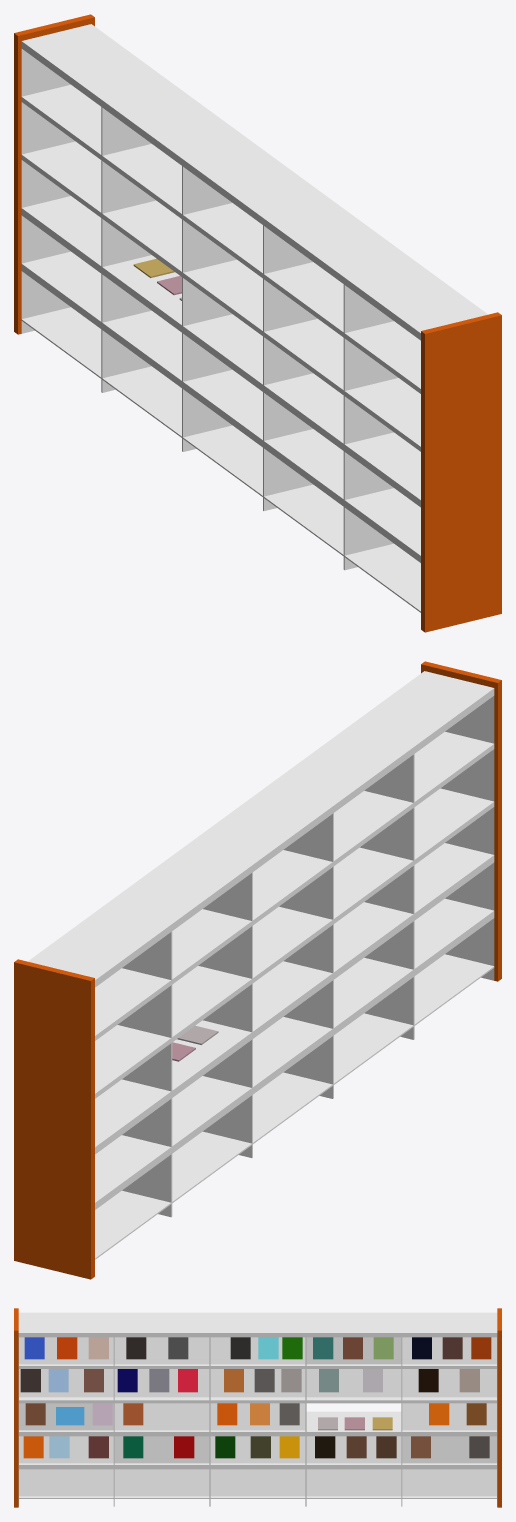
The model's file is tijdschriftenkast_animation.glb.
The picture shows the model from 3 angles, top to bottom: view 1: azimuth 30°, elevation 25°; view 2: azimuth 150°, elevation 25°; view 3: azimuth 270°, elevation 25°; orthographic projection. The views are drawn at different scales.
Visible parts, largest first — view 1: Cube; view 2: Cube; view 3: Cube.
Part boxes in pixels (x1,y1,x2,y2): Cube: [14, 14, 501, 632]; Cube: [14, 661, 501, 1279]; Cube: [14, 1308, 501, 1507].
Bounding box in the file's own units: 0.55 × 2.04 × 5.09.
